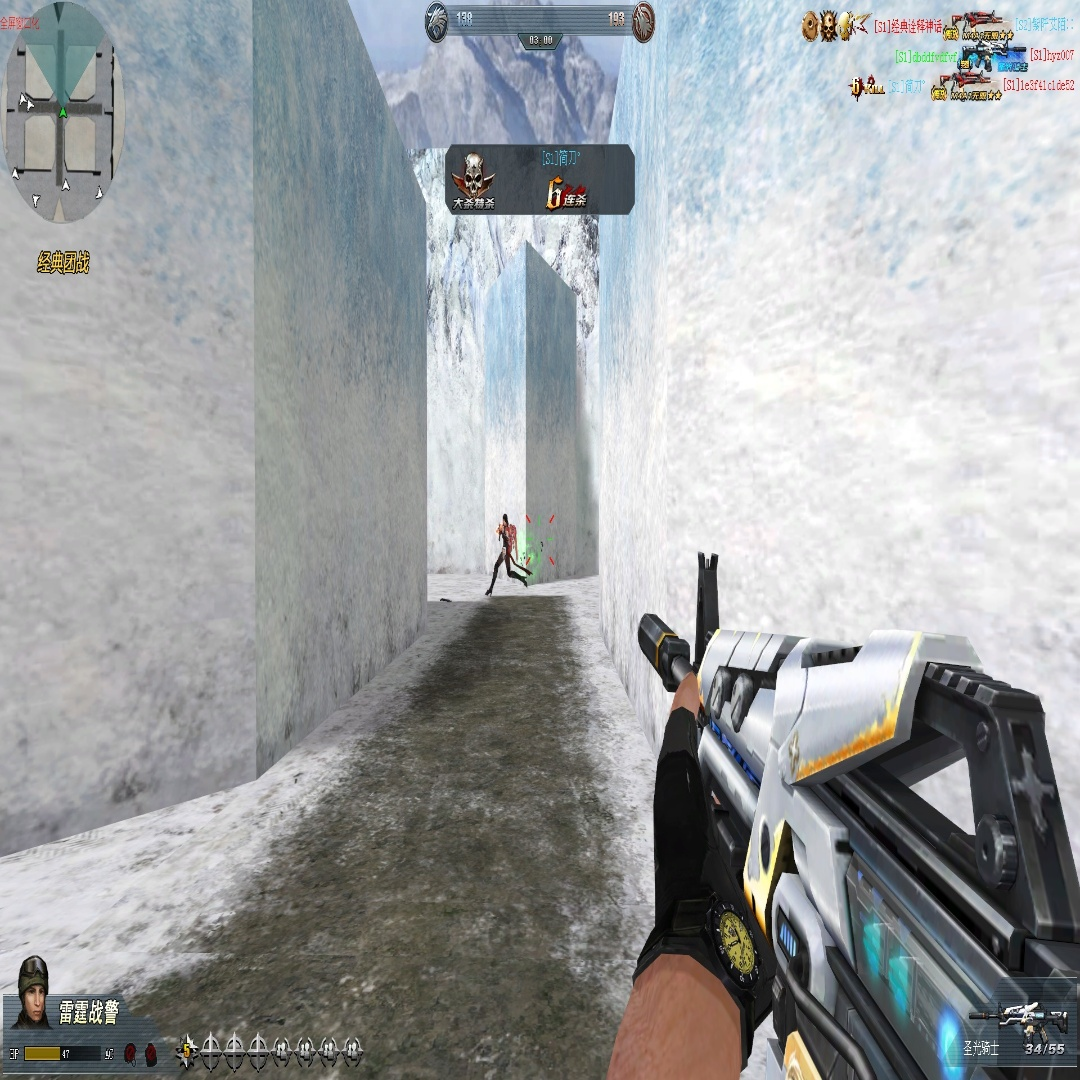t: (490, 512, 514, 594)
